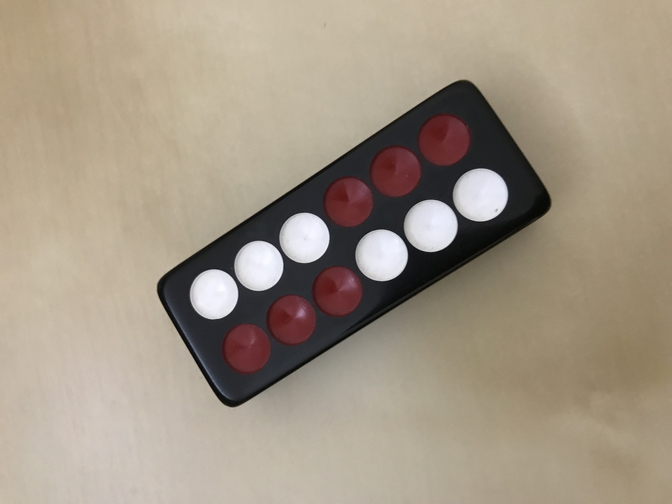heaven: (158, 79, 554, 407)
